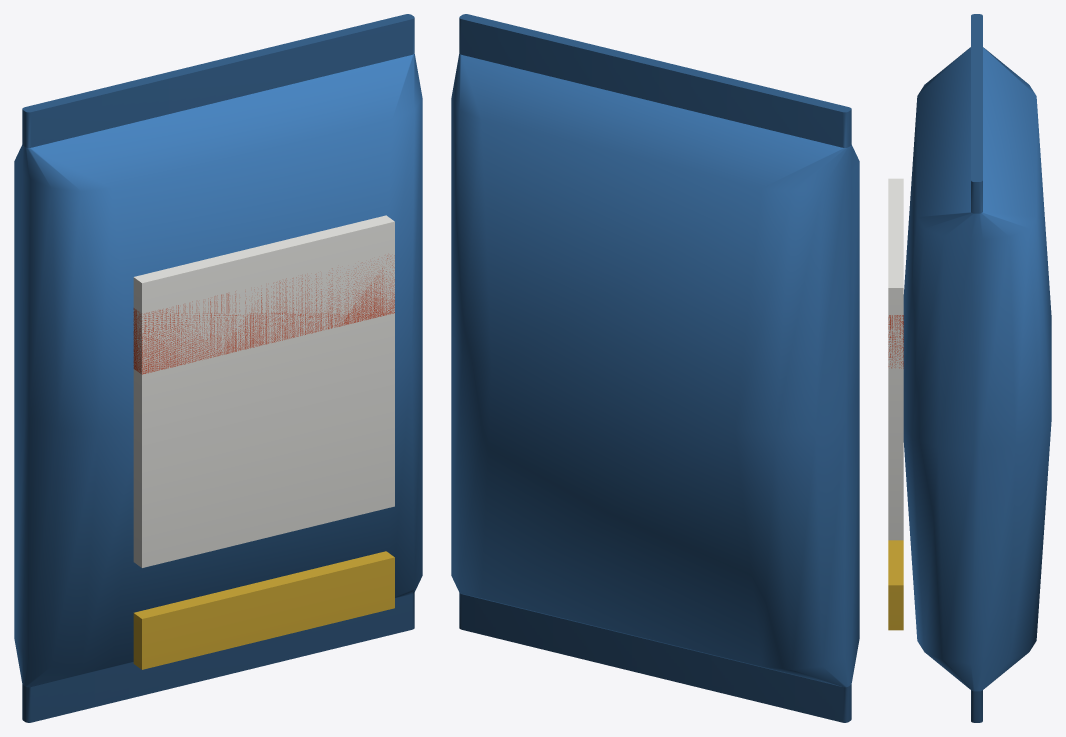
Rendered from Bag_PetFood_01.glb.
3 renders of one model, left to right at view 1: azimuth 30°, elevation 25°; view 2: azimuth 150°, elevation 25°; view 3: azimuth 270°, elevation 25°, orthographic. The views are drawn at different scales.
Visible parts, largest first — view 1: SM_Bag_PetFood_01; view 2: SM_Bag_PetFood_01; view 3: SM_Bag_PetFood_01.
Boxes of the visible parts, x1,y1,x2,y2 form: SM_Bag_PetFood_01: (14,14,422,722); SM_Bag_PetFood_01: (451,14,859,722); SM_Bag_PetFood_01: (888,14,1051,722).
Bounding box in the file's own units: 0.4 × 0.6 × 0.164.
Materials: 1 (1 with a texture image).
